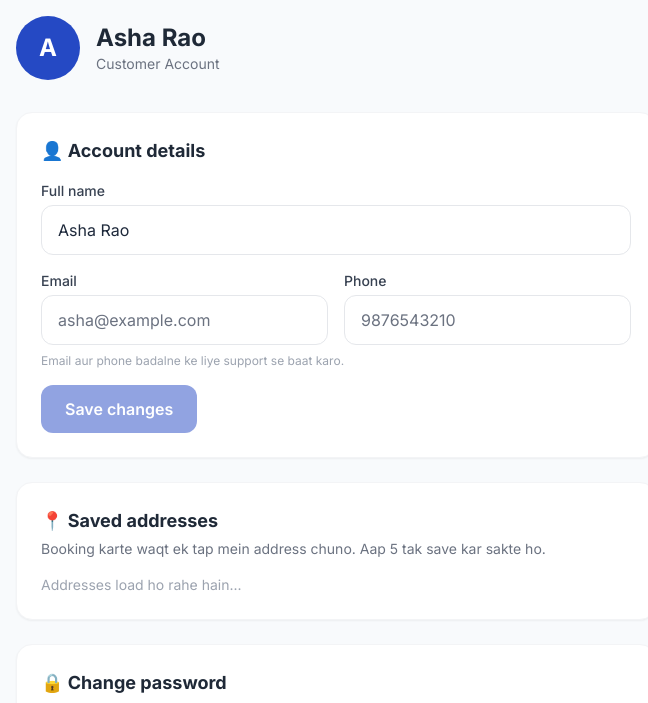
Test: changing the name saves it and updates the stored user
Replace the text in the field labelled "Full name" with "Asha K Rao" at [336, 230], box left=41, top=205, right=631, bottom=255
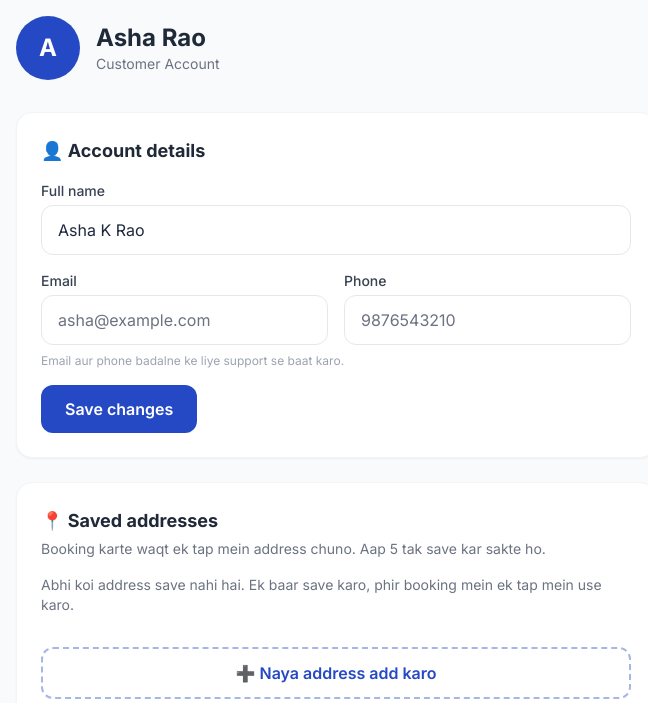
Click the button "Save changes" at [119, 409], box left=41, top=385, right=197, bottom=433
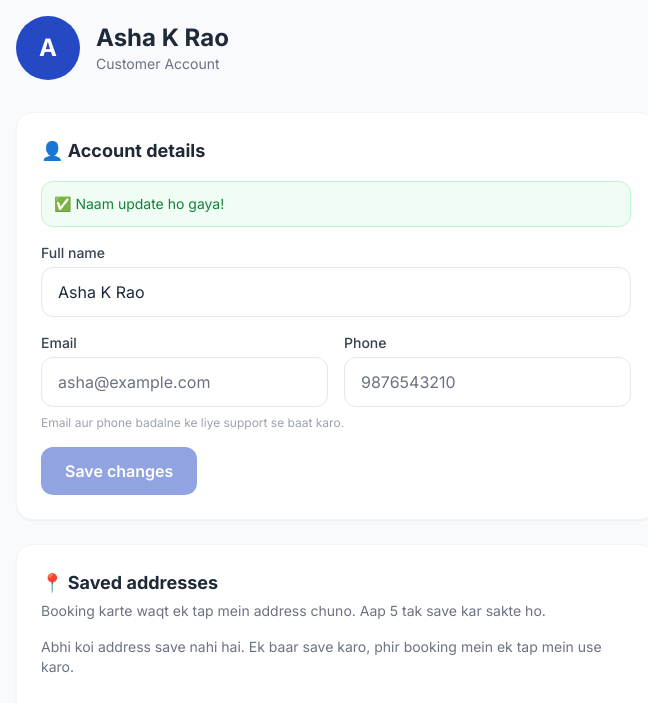
expect the text "✅ Naam update ho gaya!" is shown: met, box left=41, top=181, right=631, bottom=227
expect the heading "Asha K Rao" is shown: met, box left=96, top=22, right=229, bottom=54
